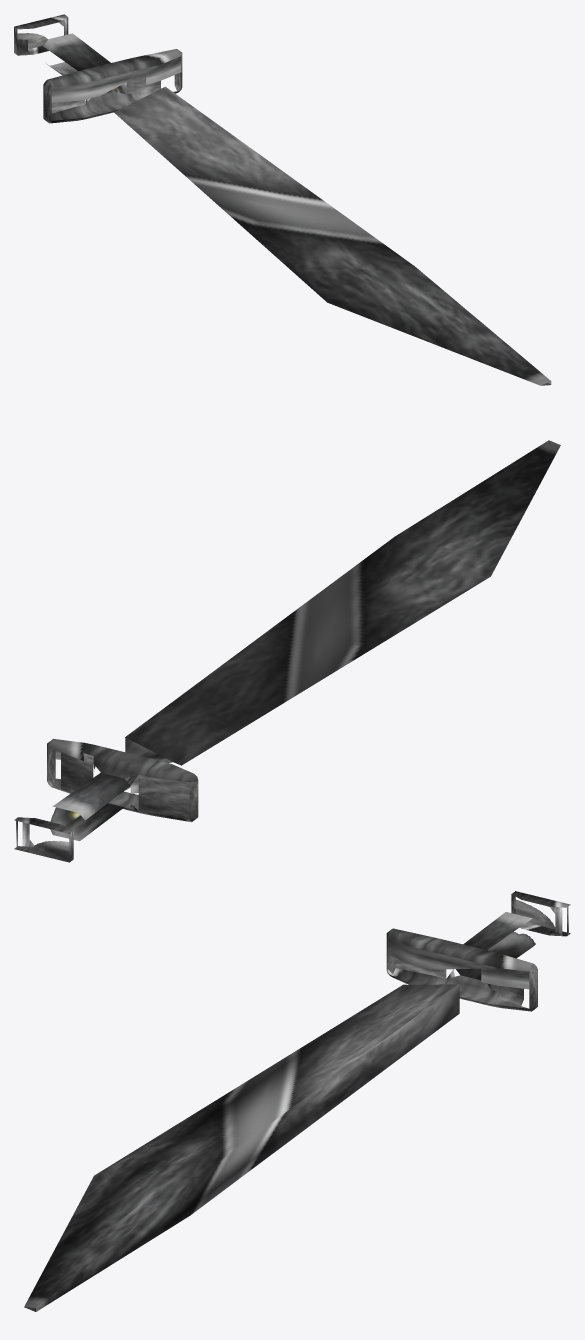
File: yatagan.fbx
3 views of the same model, one above another, from view 1: azimuth 30°, elevation 25°; view 2: azimuth 150°, elevation 25°; view 3: azimuth 330°, elevation 25° (orthographic). The views are drawn at different scales.
Parts seen in each view (by area): view 1: yatagan; view 2: yatagan; view 3: yatagan.
Part boxes in pixels (bbox=[...]): yatagan: bbox=[14, 14, 551, 385]; yatagan: bbox=[14, 440, 560, 862]; yatagan: bbox=[24, 891, 570, 1311].
Size of the model in its own units: 27.05 by 8.13 by 173.
